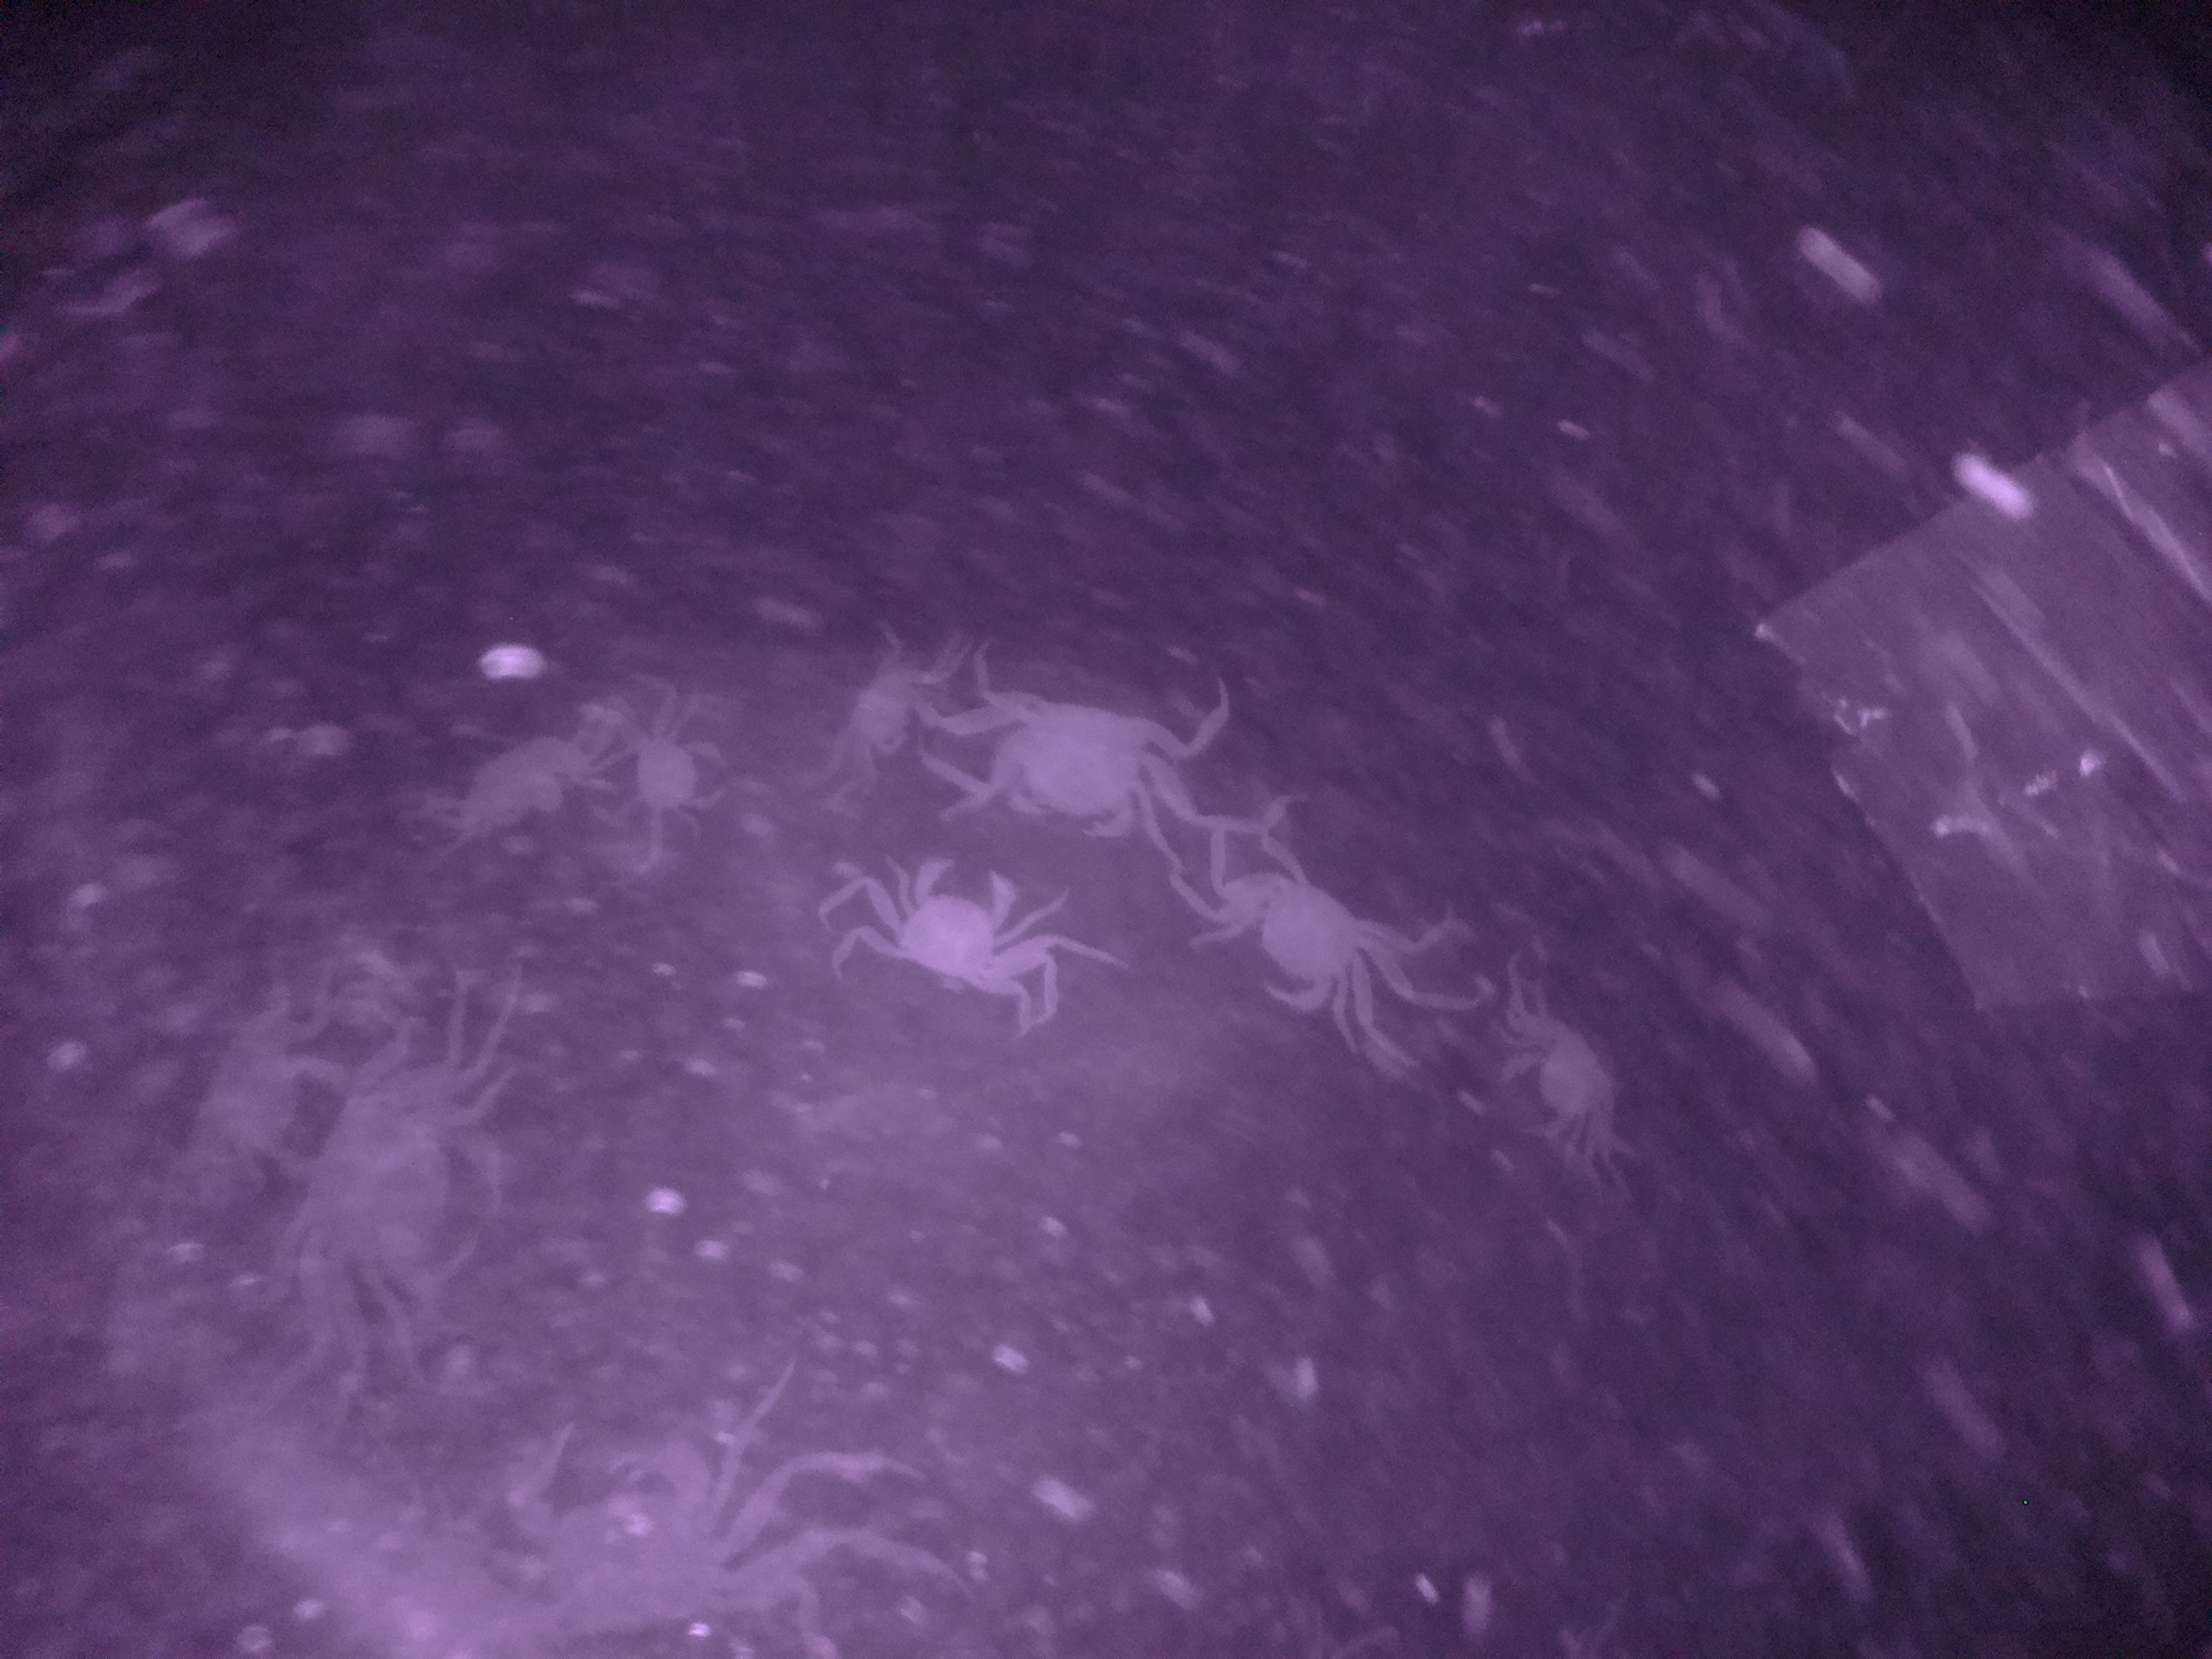Crab: (934, 688, 1209, 836), (1193, 857, 1406, 1021), (857, 849, 1045, 1011)
